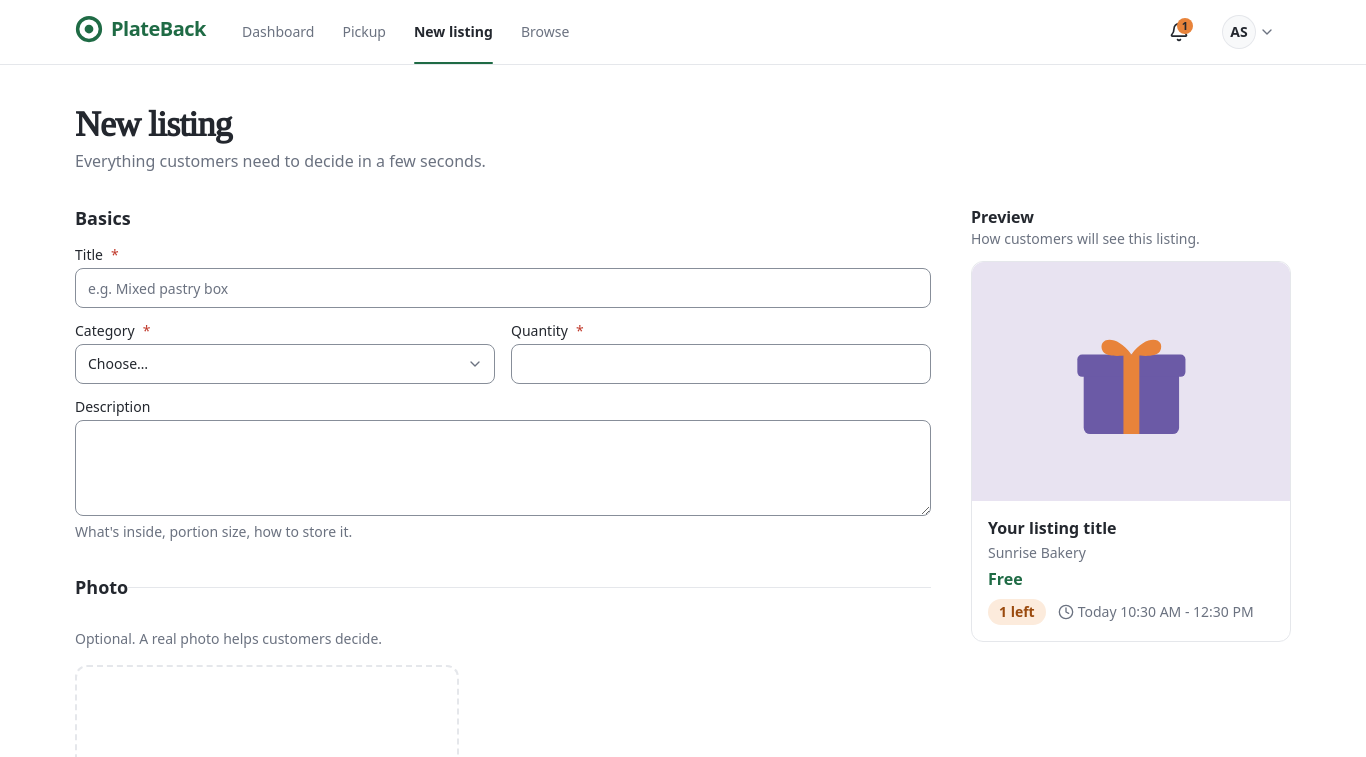
Test: CreateListingPage › publishes a listing and returns to the dashboard (US3)
Expected: the heading "New listing" is shown, [75,105,232,145]
In the field labelled "Title *": (503, 288) [75,268,931,308], type "Banana bread"
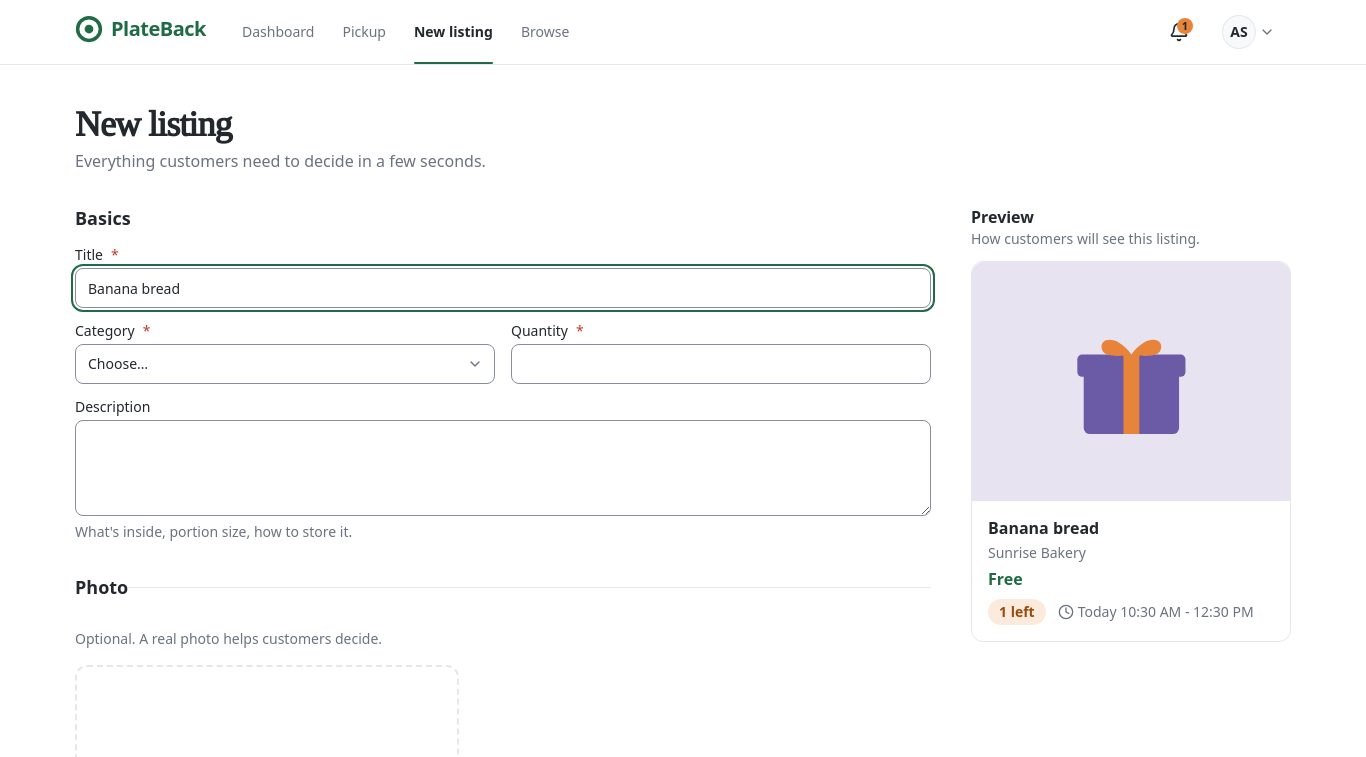
Select "Bakery" in the dropdown labelled "Category *": (285, 364) [75,344,495,384]
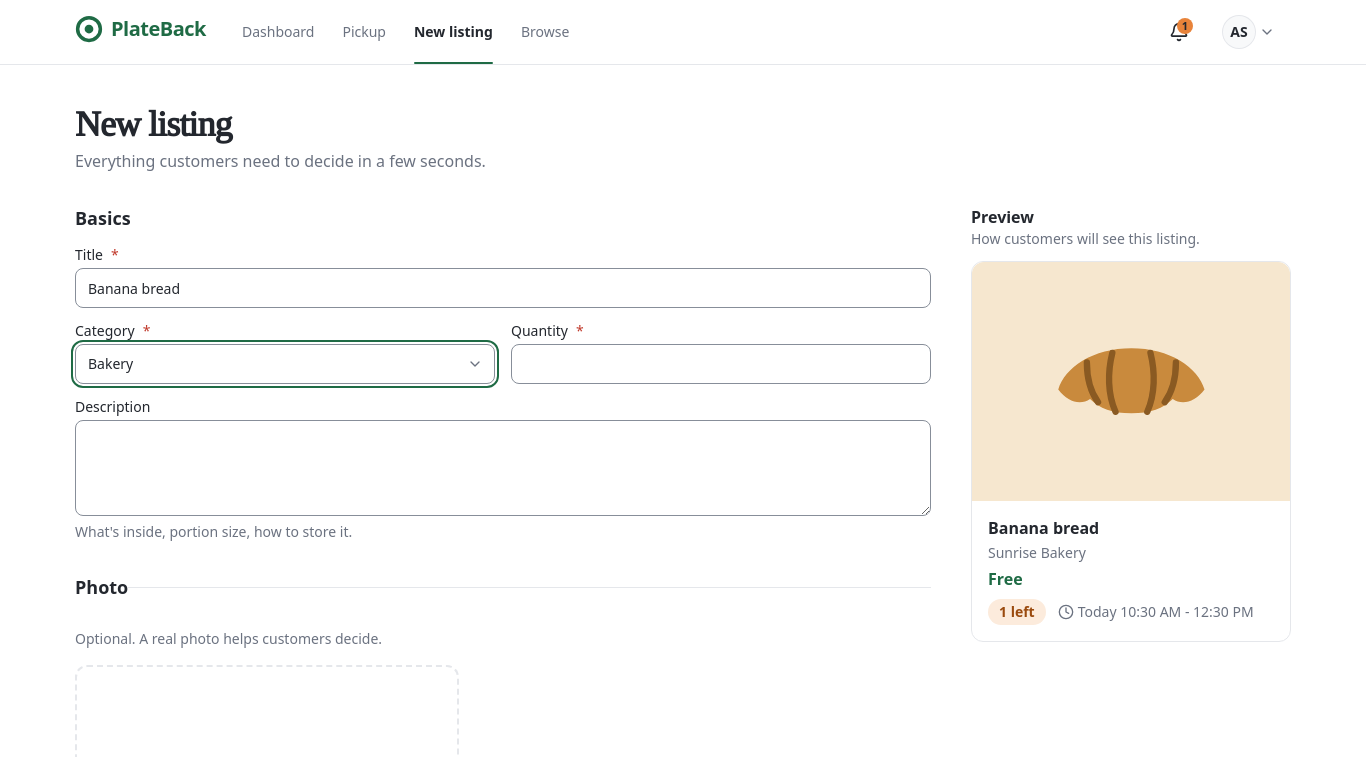
In the number field labelled "Quantity *": (721, 364) [511,344,931,384], type "5"
(page scrolled)
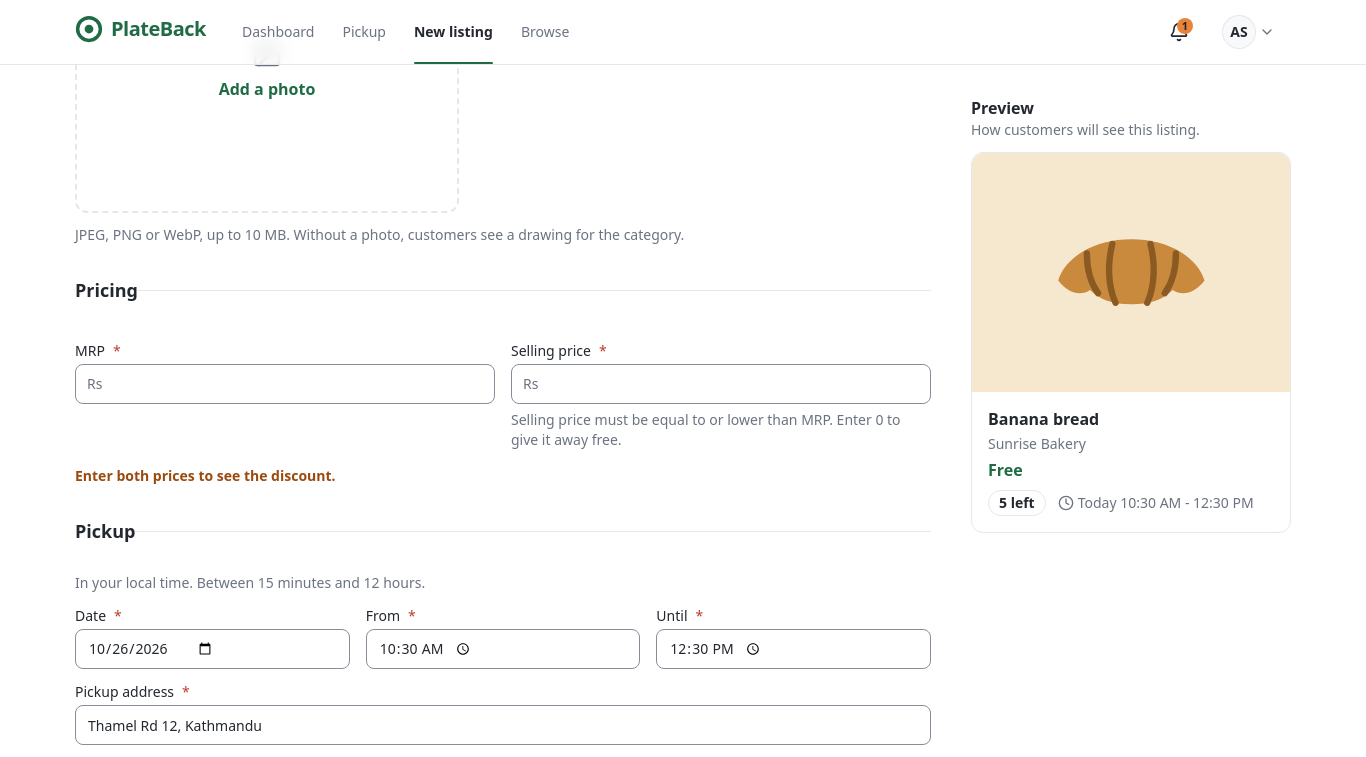
In the number field labelled "MRP *": (285, 384) [75,364,495,404], type "300"
In the number field labelled "Selling price *": (721, 384) [511,364,931,404], type "120"
(page scrolled)
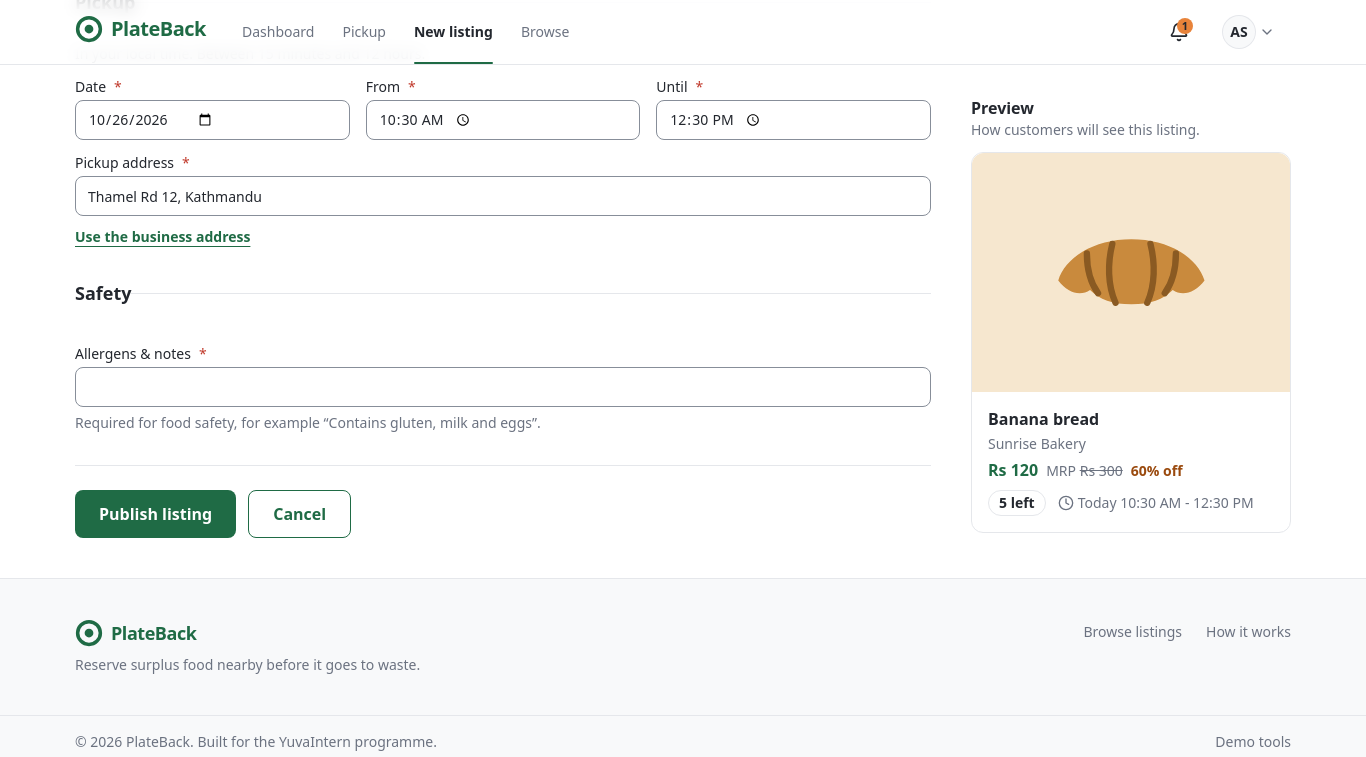
In the field labelled "Allergens & notes *": (503, 387) [75,367,931,407], type "Contains gluten and eggs."
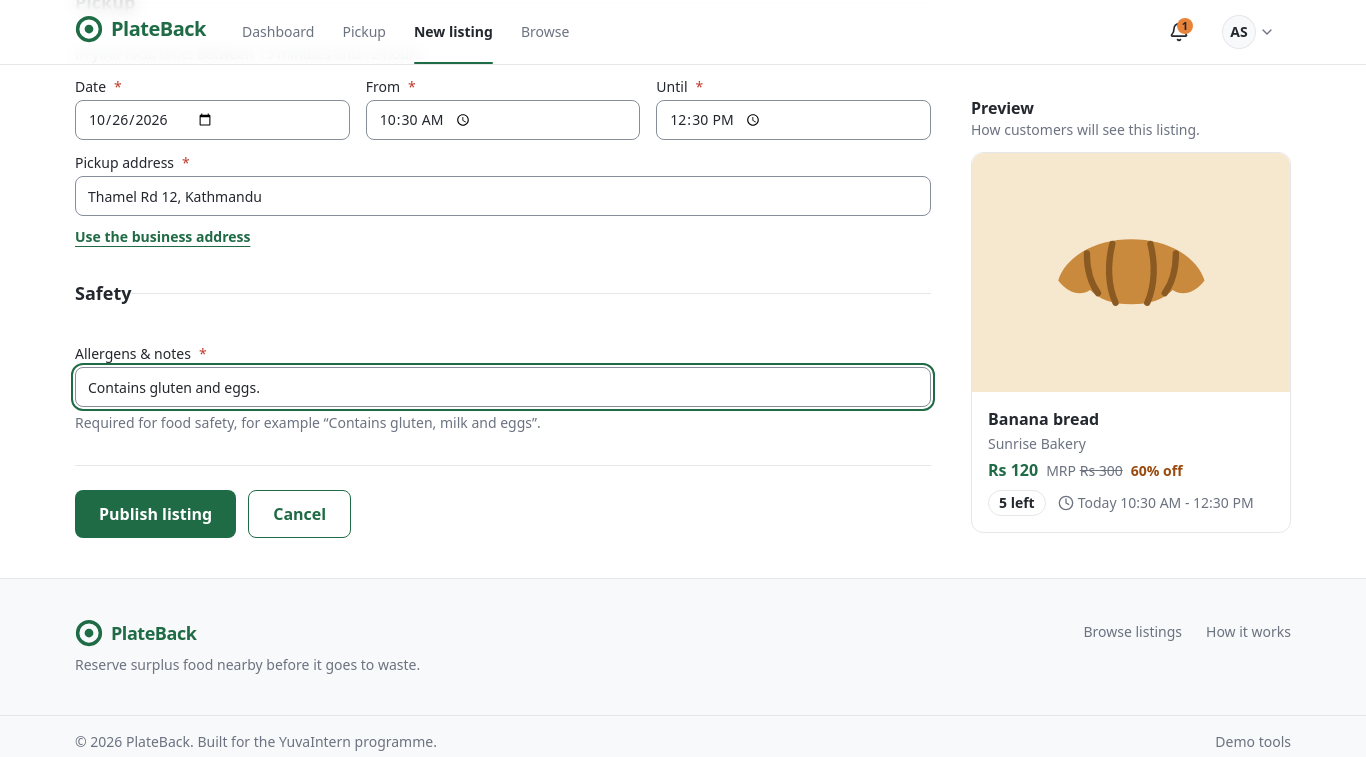
Now the heading "Banana bread" is shown, box [988,408,1099,430]
Click the button "Publish listing": (156, 514) [75,490,236,538]
(page scrolled)
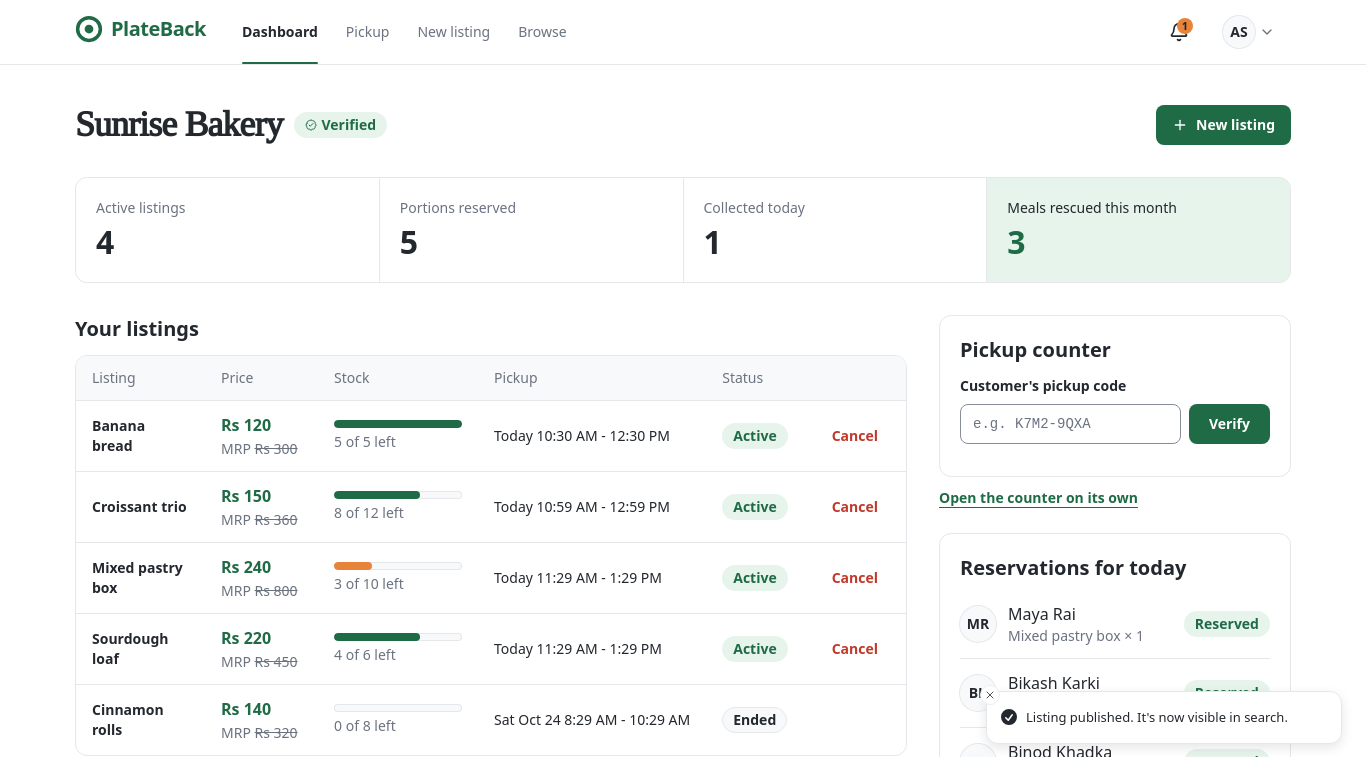
Now the text "Listing published. It's now visible in search." is shown, box [1026,708,1288,727]
